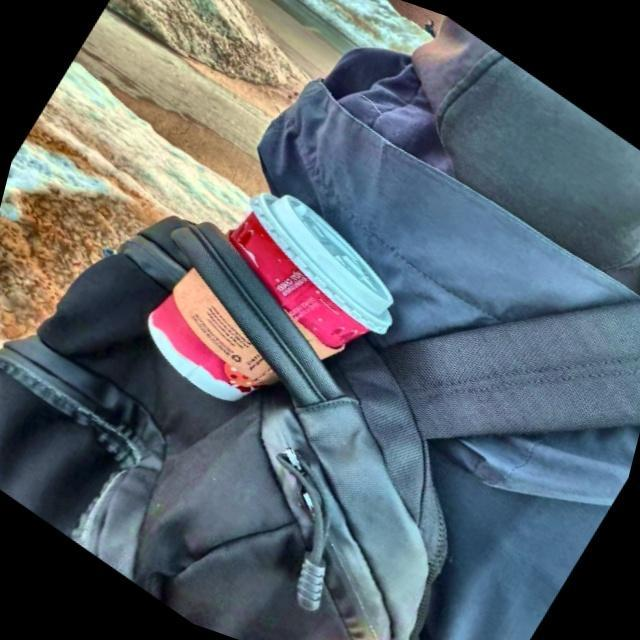timmies: (144, 192, 402, 408)
